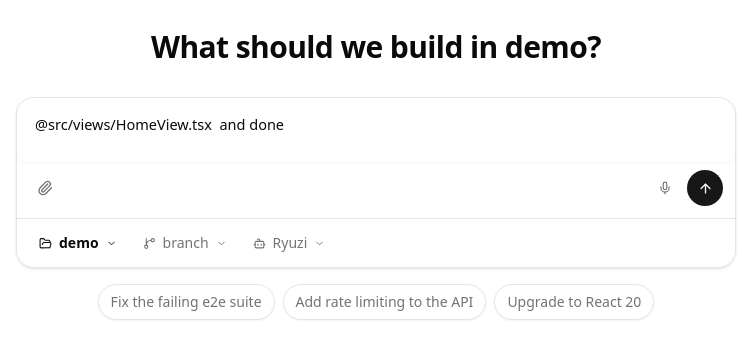
Scenario: plain agent @ mentions open the agent menu instead of searching context
Replace the text in the text box with placeholder "Do anything" with "@a" at [376, 130], box left=17, top=98, right=735, bottom=162
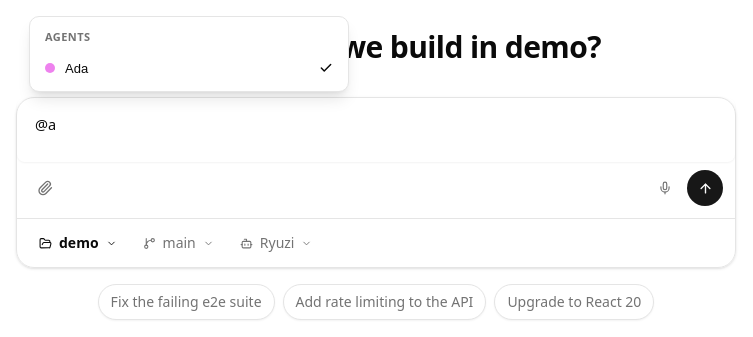
Result: the menu shows "Agents" at left=45, top=29, right=90, bottom=44
